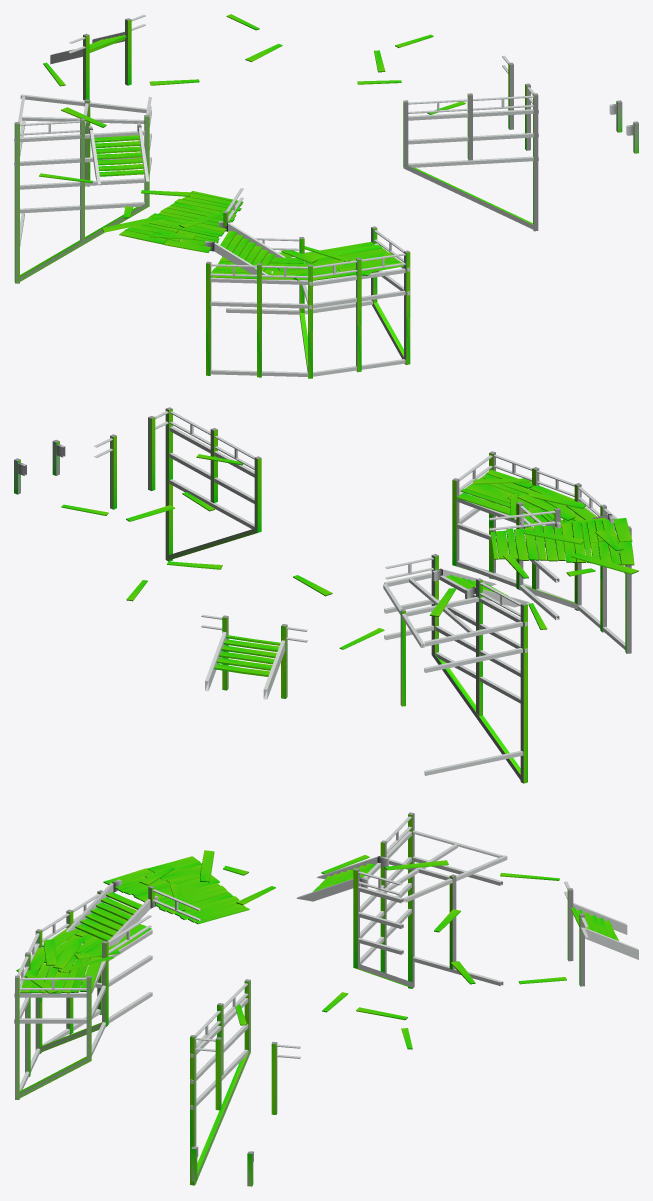
3 renders of one model, top to bottom at view 1: azimuth 30°, elevation 25°; view 2: azimuth 150°, elevation 25°; view 3: azimuth 270°, elevation 25°, orthographic. The views are drawn at different scales.
Visible parts, largest first — view 1: G:\FFXIV-MapTools\exports\f1f1\bg\ffxiv\fst_f1\fld\f1f1\bgpa; view 2: G:\FFXIV-MapTools\exports\f1f1\bg\ffxiv\fst_f1\fld\f1f1\bgpa; view 3: G:\FFXIV-MapTools\exports\f1f1\bg\ffxiv\fst_f1\fld\f1f1\bgpa.
Boxes of the visible parts, x1,y1,x2,y2 form: G:\FFXIV-MapTools\exports\f1f1\bg\ffxiv\fst_f1\fld\f1f1\bgpa: [14, 14, 638, 378]; G:\FFXIV-MapTools\exports\f1f1\bg\ffxiv\fst_f1\fld\f1f1\bgpa: [14, 407, 638, 783]; G:\FFXIV-MapTools\exports\f1f1\bg\ffxiv\fst_f1\fld\f1f1\bgpa: [14, 812, 638, 1186].
Size of the model in its own units: 47.56 by 13.77 by 43.88.
